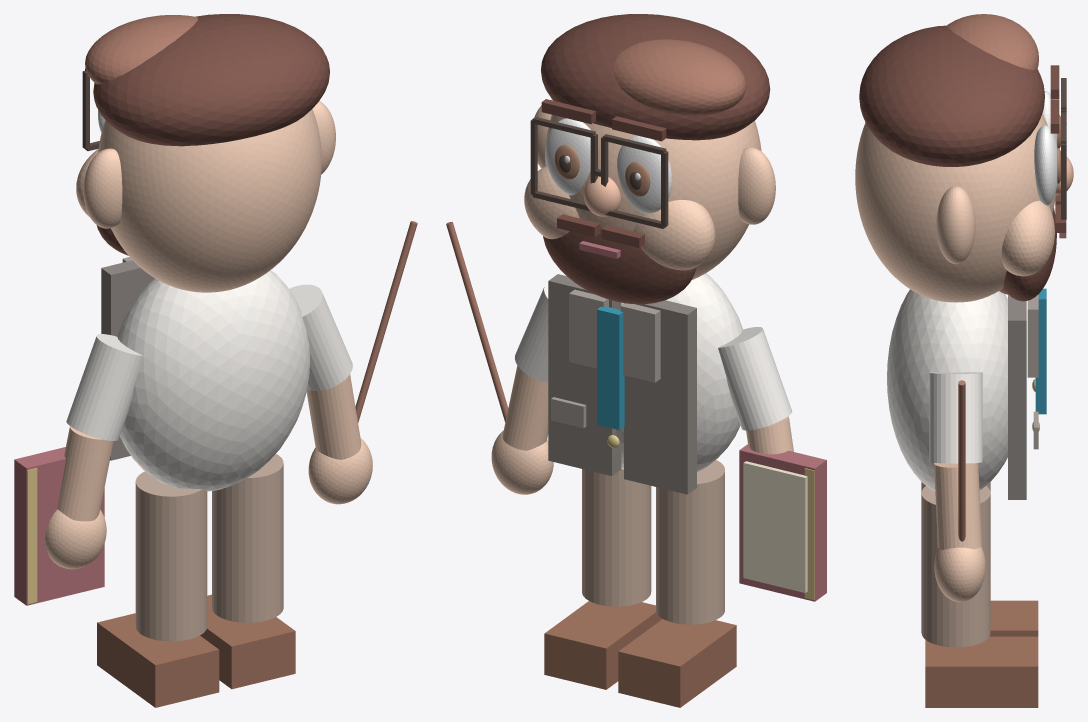
Rendered from MewtionaryTeacher_Refined_Blockout_v2.1.glb.
3 renders of one model, left to right at view 1: azimuth 30°, elevation 25°; view 2: azimuth 150°, elevation 25°; view 3: azimuth 270°, elevation 25°, orthographic. The views are drawn at different scales.
Visible parts, largest first — view 1: Torso_Shirt, Head, HairCrown, Leg_L, Leg_R, Shoe_L, BookCover, UpperArm_L, Shoe_R, HairSweepA, Forearm_L, UpperArm_R (+8 smaller); view 2: HairCrown, VestLeft, Leg_L, Head, Leg_R, Shoe_L, HairSweepA, BookPages, VestRight, Torso_Shirt, Shoe_R, BeardMain (+23 smaller); view 3: HairCrown, Head, Torso_Shirt, Shoe_R, Leg_R, UpperArm_R, VestRight, Forearm_R, Cheek_R, HairSweepA, Ear_R, Hand_R (+7 smaller).
Part boxes in pixels (box(x1,y1,x2,y2)): Torso_Shirt: box(117, 270, 310, 491); Head: box(98, 109, 321, 292); HairCrown: box(93, 14, 329, 146); Leg_L: box(135, 471, 207, 641); Leg_R: box(212, 454, 283, 622); Shoe_L: box(97, 613, 219, 707); BookCover: box(14, 447, 104, 605); UpperArm_L: box(66, 334, 142, 440); Shoe_R: box(200, 594, 295, 689); HairSweepA: box(85, 15, 197, 84); Forearm_L: box(57, 426, 113, 521); UpperArm_R: box(289, 284, 352, 390); HairCrown: box(541, 14, 770, 140); VestLeft: box(624, 300, 696, 494); Leg_L: box(656, 460, 724, 624); Head: box(544, 114, 761, 279); Leg_R: box(582, 469, 651, 606); Shoe_L: box(618, 619, 736, 707); HairSweepA: box(613, 39, 746, 116); BookPages: box(743, 461, 807, 592); VestRight: box(548, 274, 621, 475); Torso_Shirt: box(616, 273, 742, 471); Shoe_R: box(544, 601, 662, 689); BeardMain: box(543, 228, 696, 304); HairCrown: box(859, 25, 1044, 166); Head: box(855, 113, 1055, 302); Torso_Shirt: box(887, 289, 1007, 491); Shoe_R: box(925, 636, 1038, 707); Leg_R: box(921, 486, 990, 647); UpperArm_R: box(929, 372, 982, 463); VestRight: box(1008, 294, 1026, 499); Forearm_R: box(934, 463, 981, 549); Cheek_R: box(1001, 200, 1054, 276); HairSweepA: box(946, 14, 1038, 70); Ear_R: box(936, 186, 975, 264); Hand_R: box(934, 547, 985, 602).
Bounding box in the file's own units: 2.21 × 3.52 × 1.1.
